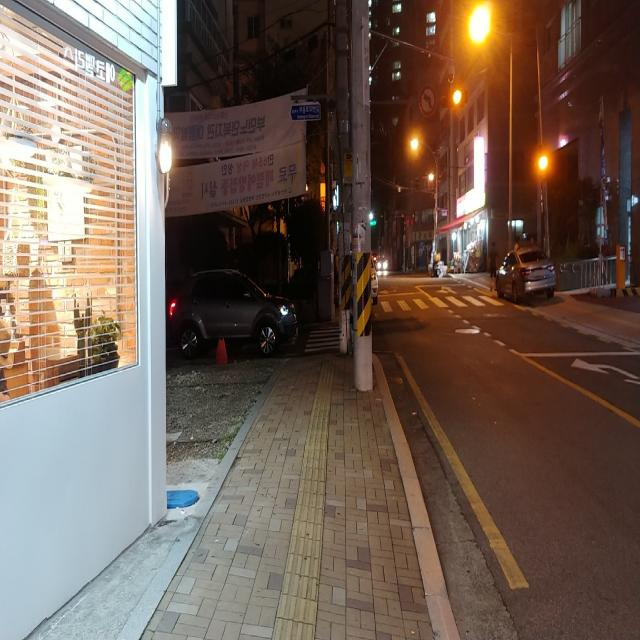횡단보도: (379, 293, 504, 313), (304, 326, 339, 352)
